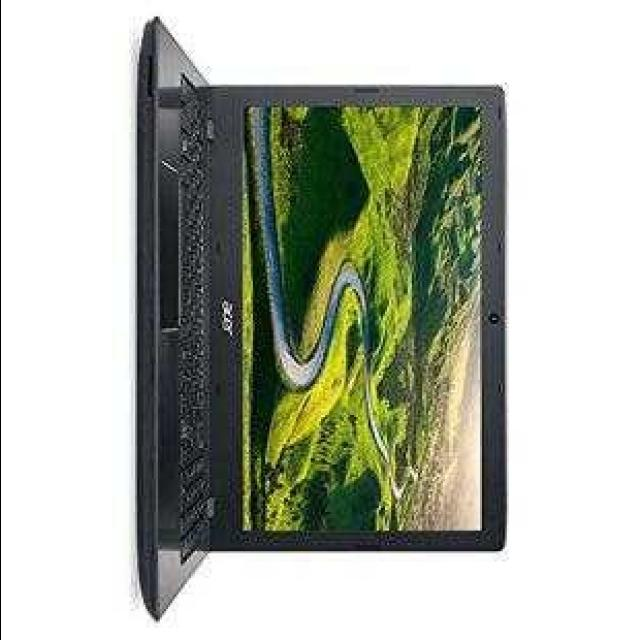laptop: (89, 41, 523, 622)
